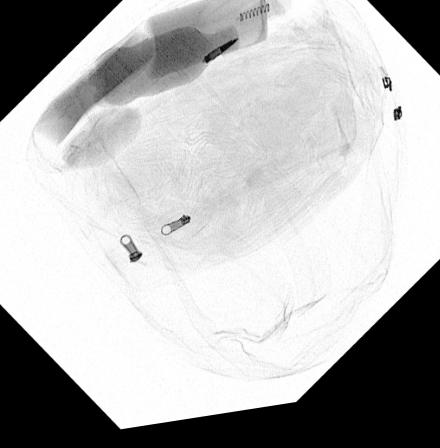Bullet: (202, 45, 239, 72)
